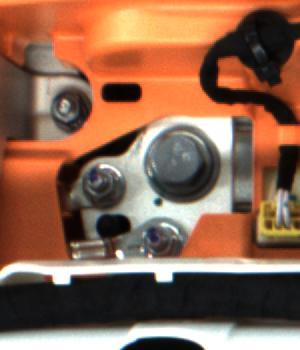nut_b: (141, 122, 222, 206)
screw_s: (81, 159, 124, 206), (48, 88, 90, 131), (142, 227, 179, 255)
